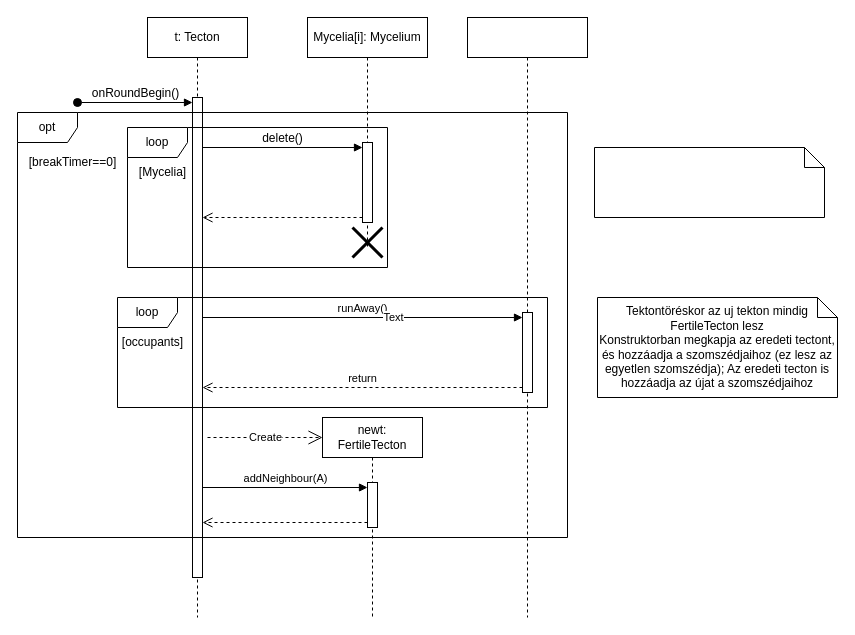
This 855x635 diagram has some shape labels left out. The box of each missing label's shape, as (x1, y1, x2, y2) in pixels:
occupants[i]: Insect: (466, 16, 588, 618)
Tektontörés esetén a kettétört tektonon található összes gombafonál elszakad.: (594, 146, 824, 218)
